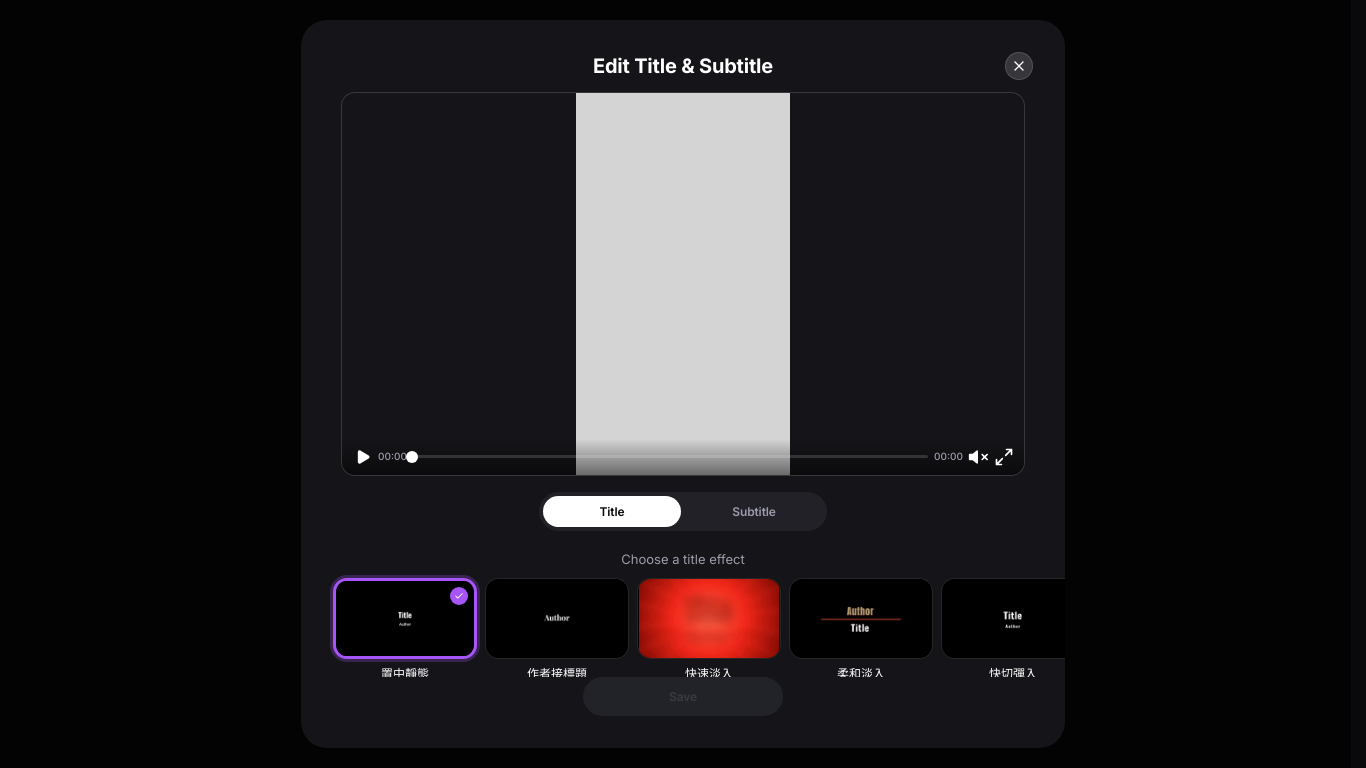
Test: MV effects draft boundaries › no-lyrics: the reason shows only on the Subtitle tab, with no switch, and Title stays usable
Expected: the text "Choose a title effect" is shown, x1=621 y1=550 x2=745 y2=568
Expected: the text "Subtitles unavailable: this song has no lyrics." is not shown
Step 1. Click the tab "Subtitle" → (754, 512), box x1=685 y1=496 x2=823 y2=527
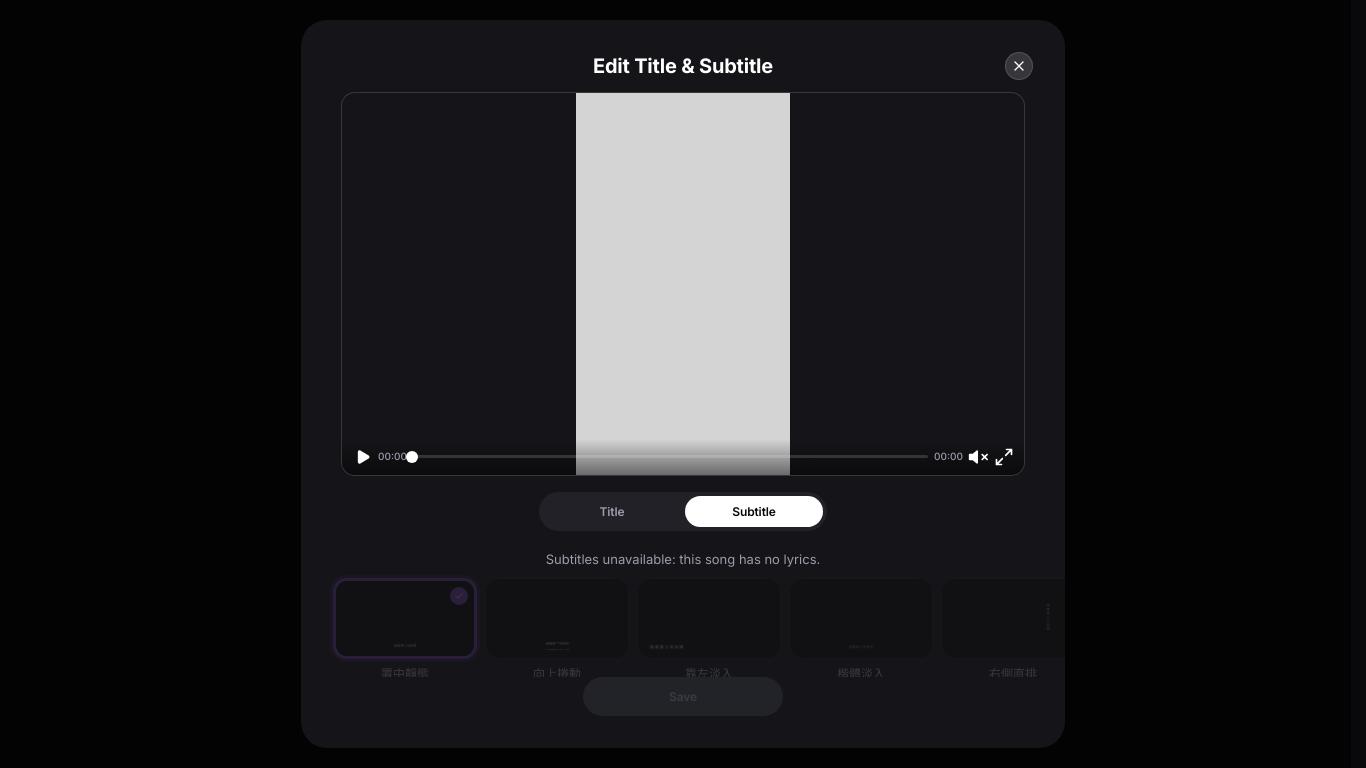
Expected: the button "Save" is disabled, x1=583 y1=677 x2=783 y2=716
Result: the text "Subtitles unavailable: this song has no lyrics." is shown at x1=546 y1=550 x2=820 y2=568
Back on Title the reason is gone again.
Step 2. Click the tab "Title" → (612, 512), box x1=543 y1=496 x2=681 y2=527
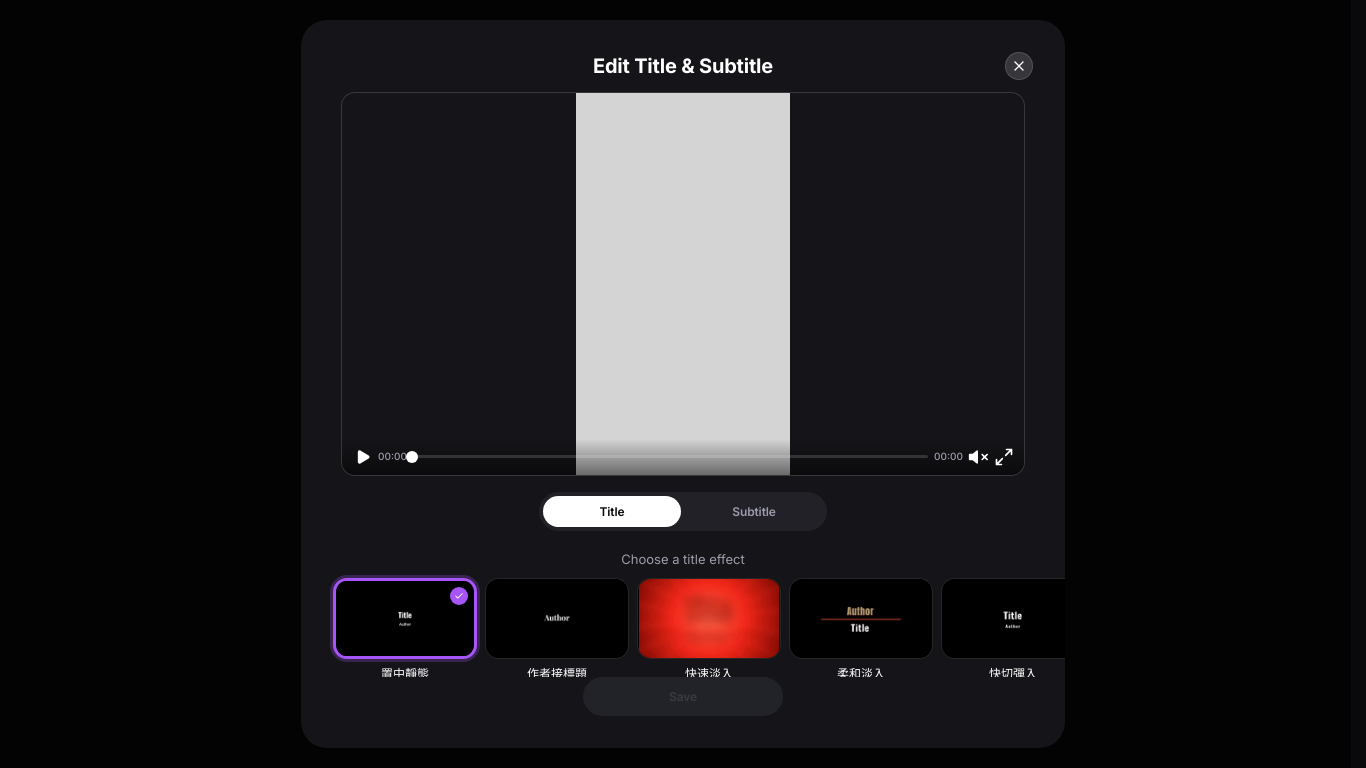
Result: the text "Subtitles unavailable: this song has no lyrics." is gone
Result: the radio button labelled "置中靜態" is enabled at x1=333 y1=578 x2=477 y2=677
